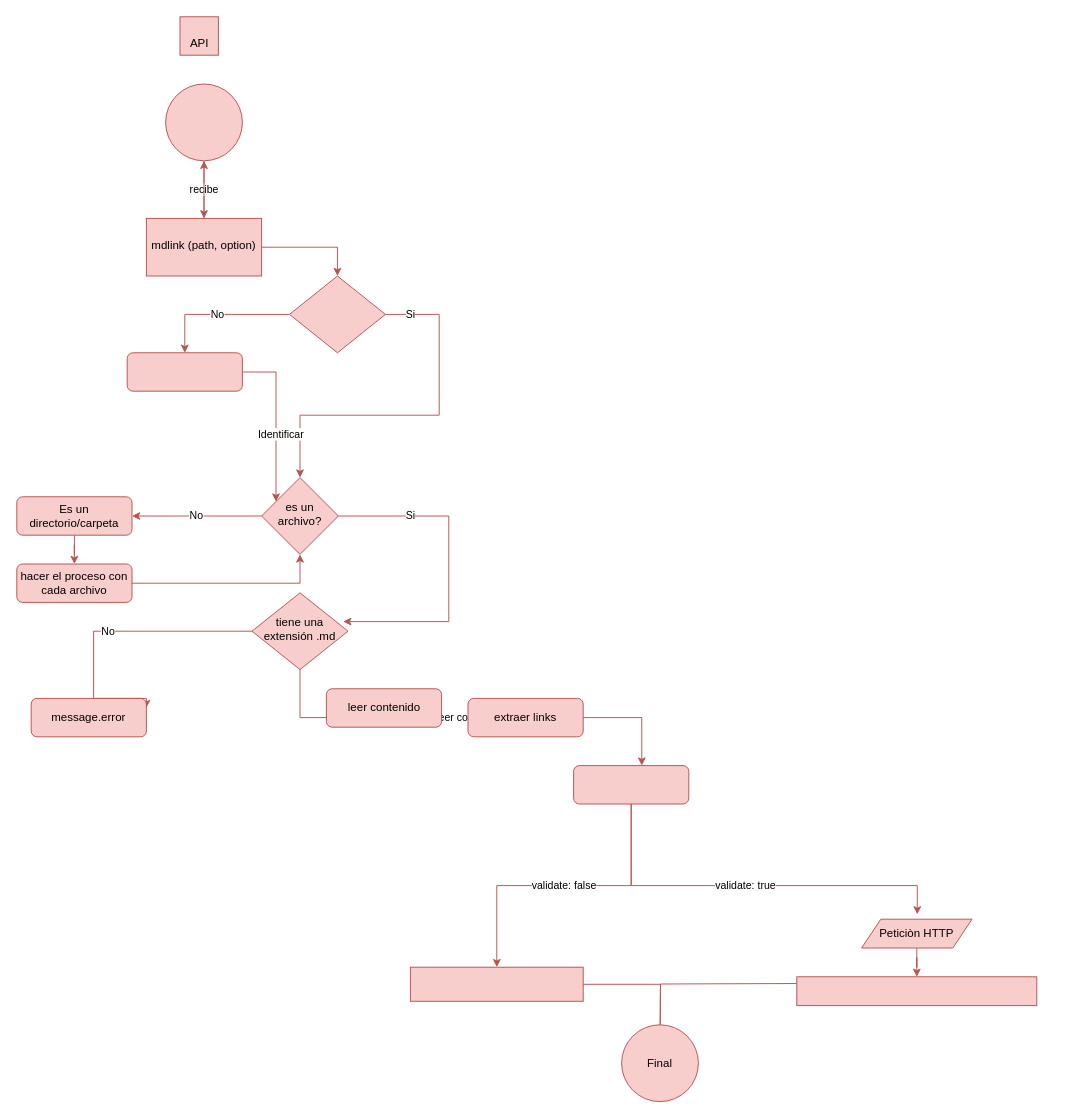
This 1074x1118 diagram has some shape labels left out. The box of each missing label's shape, as (x1, y1, x2, y2) in pixels:
[{ href, text, file,status, ok}]: (796, 976, 1037, 1006)
[{ href, text, file,}]: (409, 966, 583, 1001)
inicio: (165, 83, 242, 161)
la ruta es absoluta?: (288, 275, 385, 353)
modificar la ruta relativa y volverla ruta absoluta: (126, 352, 242, 391)
option: (573, 765, 689, 804)
